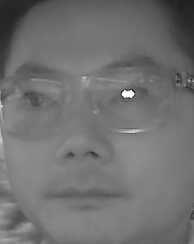glass: (89, 64, 177, 137), (1, 71, 74, 137)
mouth: (46, 177, 118, 214)
